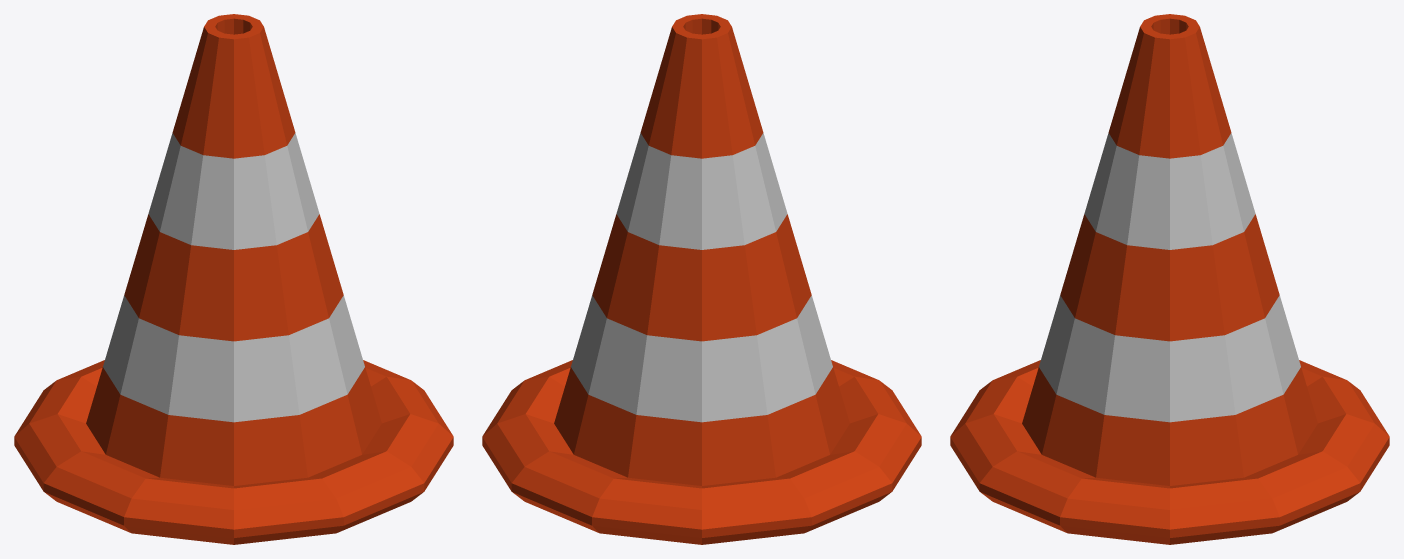
3 renders of one model, left to right at view 1: azimuth 30°, elevation 25°; view 2: azimuth 150°, elevation 25°; view 3: azimuth 270°, elevation 25°, orthographic.
Parts seen in each view (by area): view 1: Cone_A; view 2: Cone_A; view 3: Cone_A.
Boxes of the visible parts, <box> form: Cone_A: <box>14,14,453,544</box>; Cone_A: <box>482,14,921,544</box>; Cone_A: <box>950,14,1389,544</box>.
Bounding box in the file's own units: 0.6459 × 0.7 × 0.6459.
